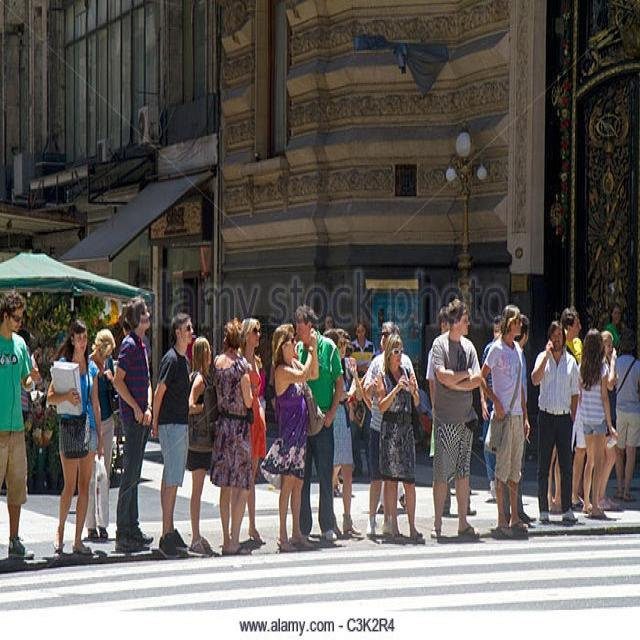body: (0, 482, 640, 560), (0, 337, 94, 491), (45, 316, 104, 557), (259, 321, 320, 554), (477, 300, 532, 542), (430, 294, 482, 546), (362, 319, 420, 541), (292, 302, 345, 544), (0, 284, 45, 564), (425, 300, 480, 522), (111, 292, 157, 556), (374, 324, 428, 546), (149, 311, 195, 561), (529, 316, 583, 527), (209, 316, 254, 556), (229, 316, 268, 547), (570, 328, 618, 514), (535, 319, 577, 524), (324, 325, 364, 537), (574, 326, 616, 520), (184, 335, 219, 557), (502, 312, 537, 527), (85, 328, 117, 543), (478, 312, 508, 504), (613, 324, 639, 504), (598, 292, 625, 357), (559, 302, 583, 364)
